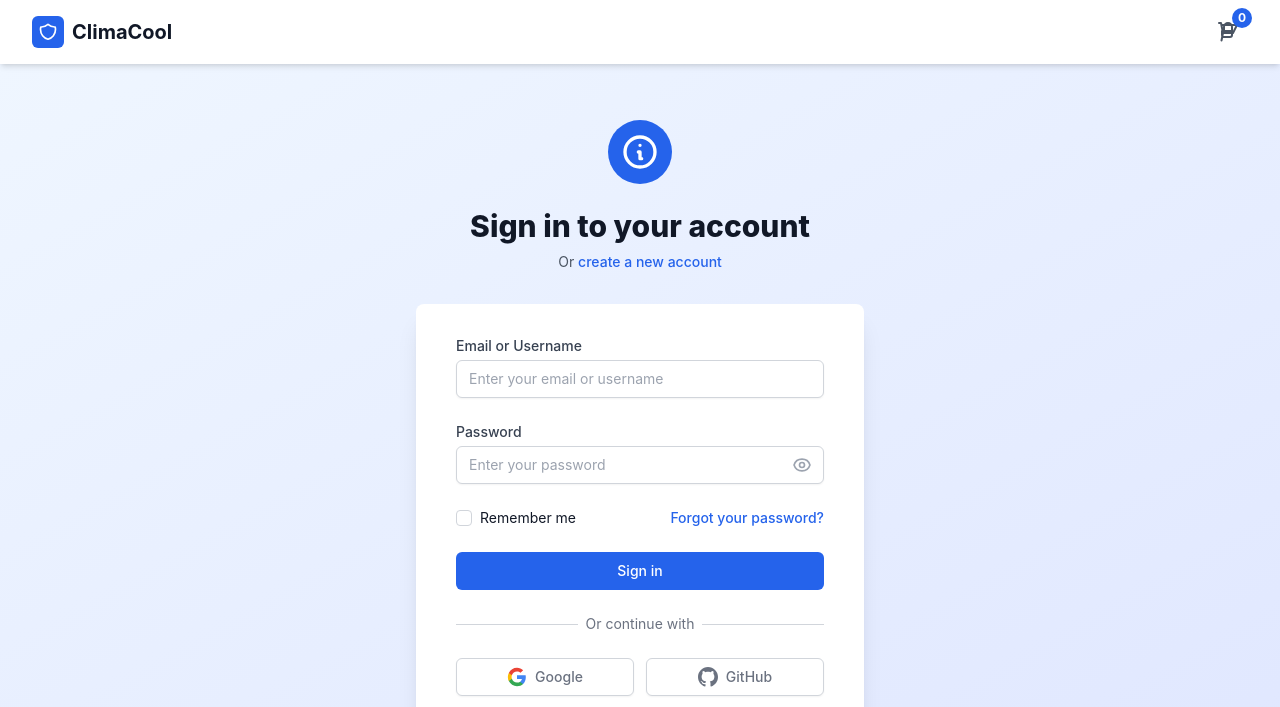
Test case: Authentication Tests - Simple › Basic Authentication Flow › should show validation on empty form submission
# Try to submit empty form
Click the submit button at (640, 571), box [456,552,824,590]
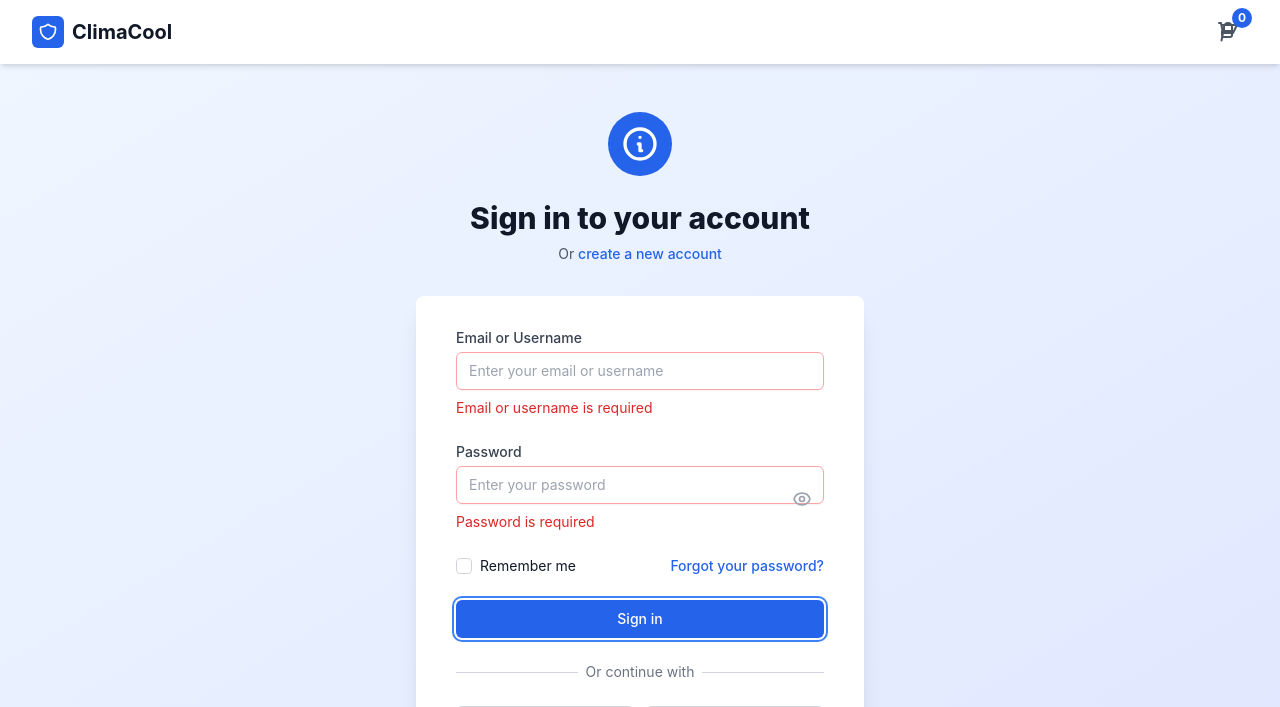
Check: the text "Email or username is required" is shown, box [456,399,653,416]
Check: the text "Password is required" is shown, box [456,513,595,530]
